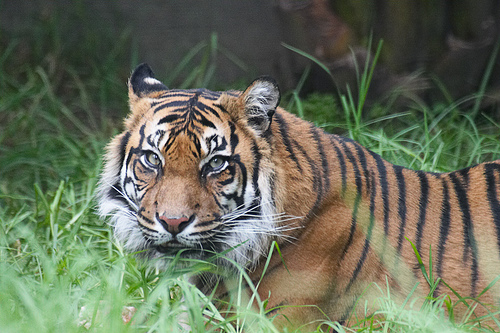Tigre: (81, 65, 321, 248)
